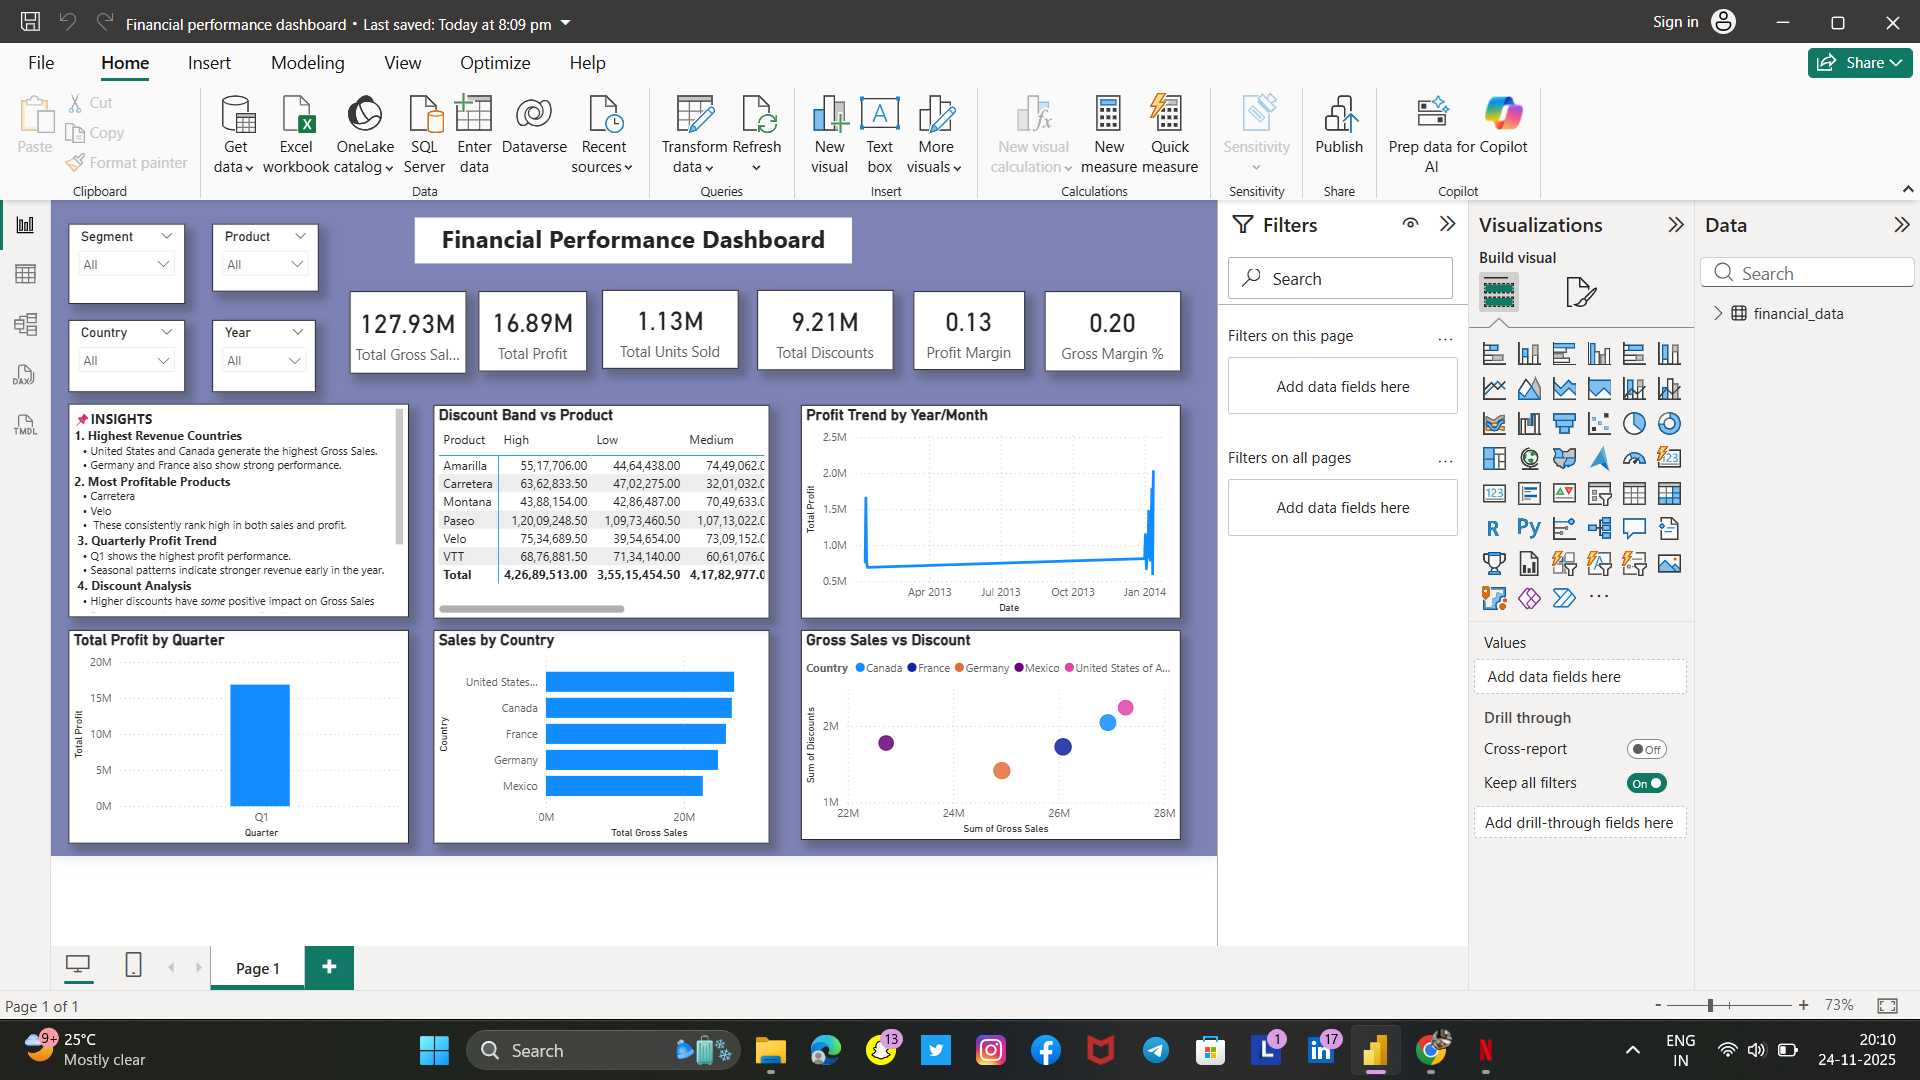

Layout of this report page (visuals, bound fields, positions):
{"tool":"powerbi","page":{"name":"Page 1","canvas":[1280,720],"ordinal":0},"visuals":[{"type":"card","fields":{"Values":["financial_data.Total Gross Sales"]},"box":[328,100.2,127.6,90.6],"z":0},{"type":"card","fields":{"Values":["financial_data.Total Profit"]},"box":[469.3,100.2,119.4,87.8],"z":1},{"type":"card","fields":{"Values":["financial_data.Total Units Sold"]},"box":[605.1,98.8,149.6,86.4],"z":2},{"type":"card","fields":{"Values":["financial_data.Total Discounts"]},"box":[775.3,98.8,149.6,87.8],"z":3},{"type":"card","fields":{"Values":["financial_data.Profit Margin"]},"box":[946.8,100.2,122.1,86.4],"z":4},{"type":"card","fields":{"Values":["financial_data.Gross Margin %"]},"box":[1090.9,100.2,149.6,87.8],"z":5},{"type":"clusteredBarChart","title":"Sales by Country","fields":{"Category":["financial_data.Country"],"Y":["financial_data.Total Gross Sales"]},"box":[419.9,472,369.1,234.6],"z":6},{"type":"lineChart","title":"Profit Trend by Year/Month","fields":{"Y":["financial_data.Total Profit"],"Category":["financial_data.Date"]},"box":[823.3,225,417.2,234.6],"z":7},{"type":"clusteredColumnChart","fields":{"Category":["financial_data.Quarter"],"Y":["financial_data.Total Profit"]},"box":[19.2,472,373.2,234.6],"z":8},{"type":"scatterChart","title":"Gross Sales vs Discount","fields":{"X":["Sum(financial_data. Gross Sales )"],"Y":["Sum(financial_data.Discounts)"],"Size":["Sum(financial_data.Profit)"],"Series":["financial_data.Country"]},"box":[823.3,472,417.2,230.5],"z":9},{"type":"pivotTable","title":"Discount Band vs Product","fields":{"Rows":["financial_data.Product"],"Columns":["financial_data.Discount Band"],"Values":["financial_data.Total Gross Sales"]},"box":[419.9,225,369.1,234.6],"z":10},{"type":"slicer","fields":{"Values":["financial_data.Segment"]},"box":[19.2,26.1,127.6,87.8],"z":11},{"type":"slicer","fields":{"Values":["financial_data.Country"]},"box":[19.2,131.7,127.6,79.6],"z":12},{"type":"slicer","fields":{"Values":["financial_data.Year"]},"box":[177,131.7,113.9,79.6],"z":13},{"type":"slicer","fields":{"Values":["financial_data.Product"]},"box":[177,26.1,116.6,74.1],"z":14},{"type":"textbox","box":[399.9,19.2,480.3,50.8],"z":15},{"type":"textbox","box":[19.2,223.7,373.2,234.6],"z":16}]}

Visuals, with their boxes on the page's 1280x720 design canvas (x1, y1, x2, y2). These are canvas units, not pixel positions in the 1920x1080 screenshot, which may show the page scaled, cropped or inside an application window:
card - financial_data.Total Gross Sales: l=328, t=100, r=456, b=191
card - financial_data.Total Profit: l=469, t=100, r=589, b=188
card - financial_data.Total Units Sold: l=605, t=99, r=755, b=185
card - financial_data.Total Discounts: l=775, t=99, r=925, b=187
card - financial_data.Profit Margin: l=947, t=100, r=1069, b=187
card - financial_data.Gross Margin %: l=1091, t=100, r=1240, b=188
"Sales by Country" clusteredBarChart: l=420, t=472, r=789, b=707
"Profit Trend by Year/Month" lineChart: l=823, t=225, r=1240, b=460
clusteredColumnChart - financial_data.Quarter x financial_data.Total Profit: l=19, t=472, r=392, b=707
"Gross Sales vs Discount" scatterChart: l=823, t=472, r=1240, b=702
"Discount Band vs Product" pivotTable: l=420, t=225, r=789, b=460
slicer - financial_data.Segment: l=19, t=26, r=147, b=114
slicer - financial_data.Country: l=19, t=132, r=147, b=211
slicer - financial_data.Year: l=177, t=132, r=291, b=211
slicer - financial_data.Product: l=177, t=26, r=294, b=100
textbox: l=400, t=19, r=880, b=70
textbox: l=19, t=224, r=392, b=458
